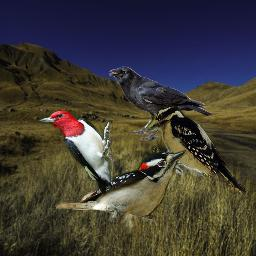Crow: (109, 66, 212, 141)
Woodpecker: (55, 147, 187, 222), (146, 102, 247, 195), (36, 110, 116, 194)
